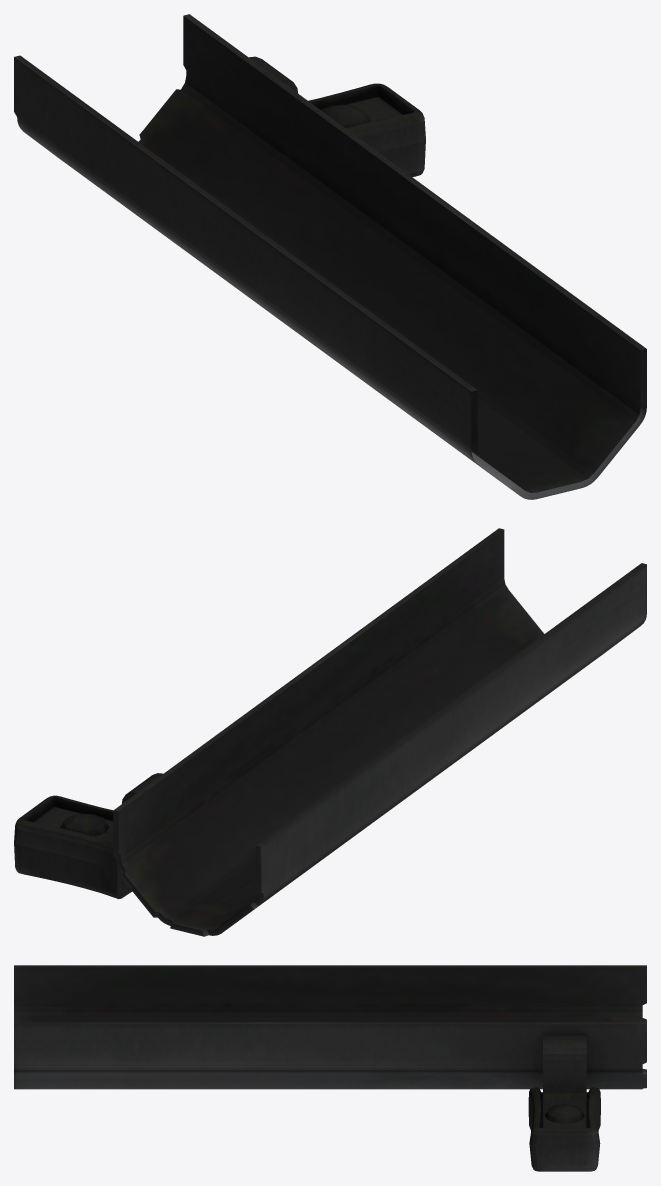
The picture shows the model from 3 angles, top to bottom: view 1: azimuth 30°, elevation 25°; view 2: azimuth 150°, elevation 25°; view 3: azimuth 270°, elevation 25°; orthographic projection. The views are drawn at different scales.
Parts seen in each view (by area): view 1: TW_5f2a9575926fd9352339381f_PZ_Import; view 2: TW_5f2a9575926fd9352339381f_PZ_Import; view 3: TW_5f2a9575926fd9352339381f_PZ_Import.
Part boxes in pixels (left/top/right/bottom): TW_5f2a9575926fd9352339381f_PZ_Import: left=14, top=14, right=646, bottom=499; TW_5f2a9575926fd9352339381f_PZ_Import: left=14, top=528, right=646, bottom=936; TW_5f2a9575926fd9352339381f_PZ_Import: left=14, top=965, right=646, bottom=1171.
Bounding box in the file's own units: 0.0399 × 0.0952 × 0.016.
1 material, 1 textured.
